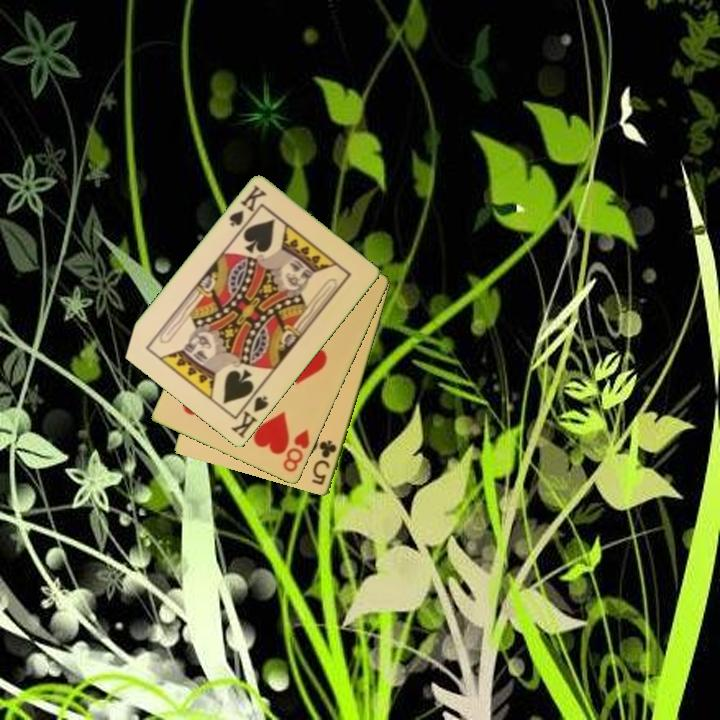5c: (308, 437, 340, 488)
8h: (279, 426, 313, 475)
Ks: (227, 386, 272, 442), (225, 182, 270, 230)
